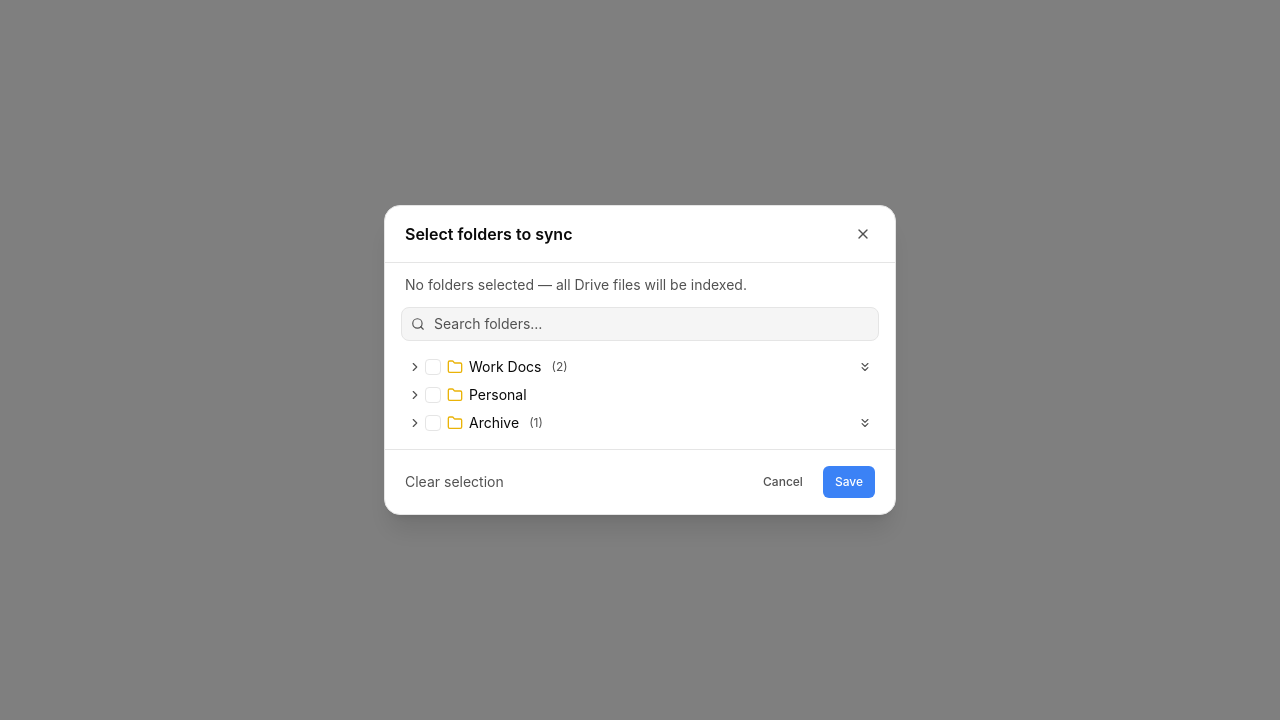
Test: FolderPickerModal › updates selection count label when a folder is toggled
Expected: the text "Work Docs" is shown, [469,357,542,377]
Expected: the text "No folders selected — all Drive files will be indexed." is shown, [405,276,747,293]
# Click first checkbox
Click the 1st checkbox: x=433, y=367 [425,359,441,375]
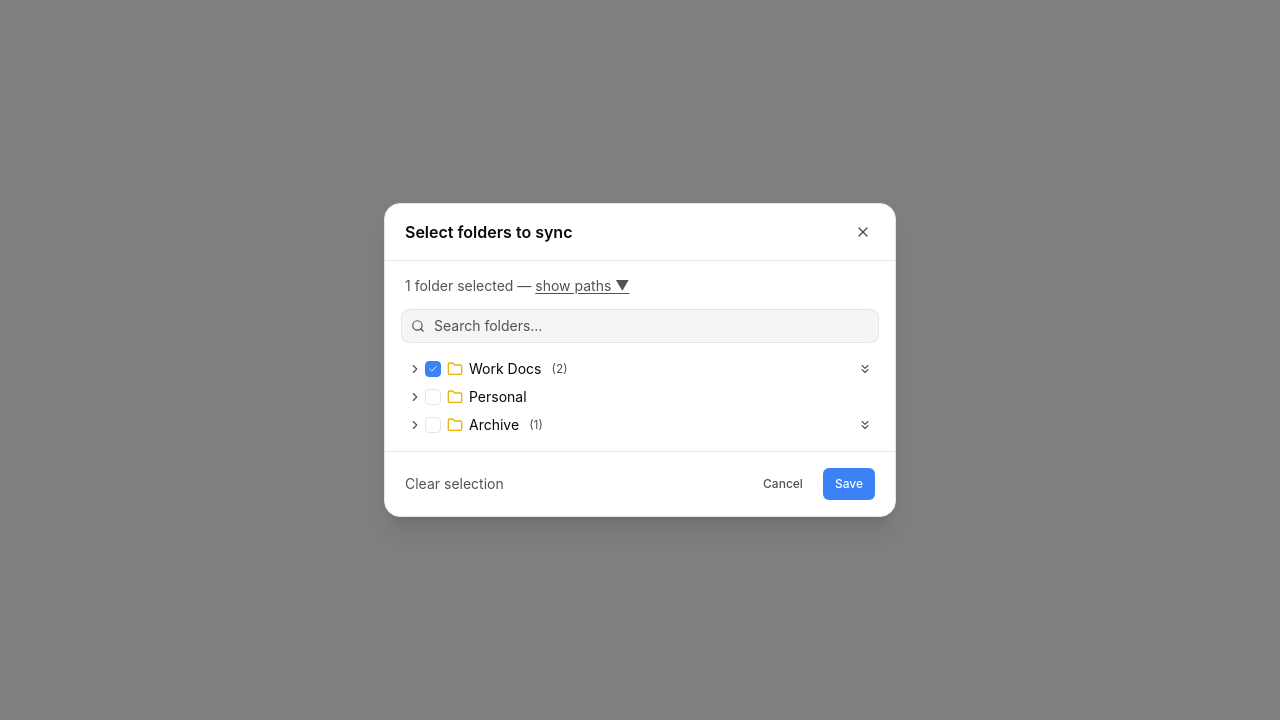
Result: the button "1 folder selected — show paths ▼" is shown at [405,276,629,296]
